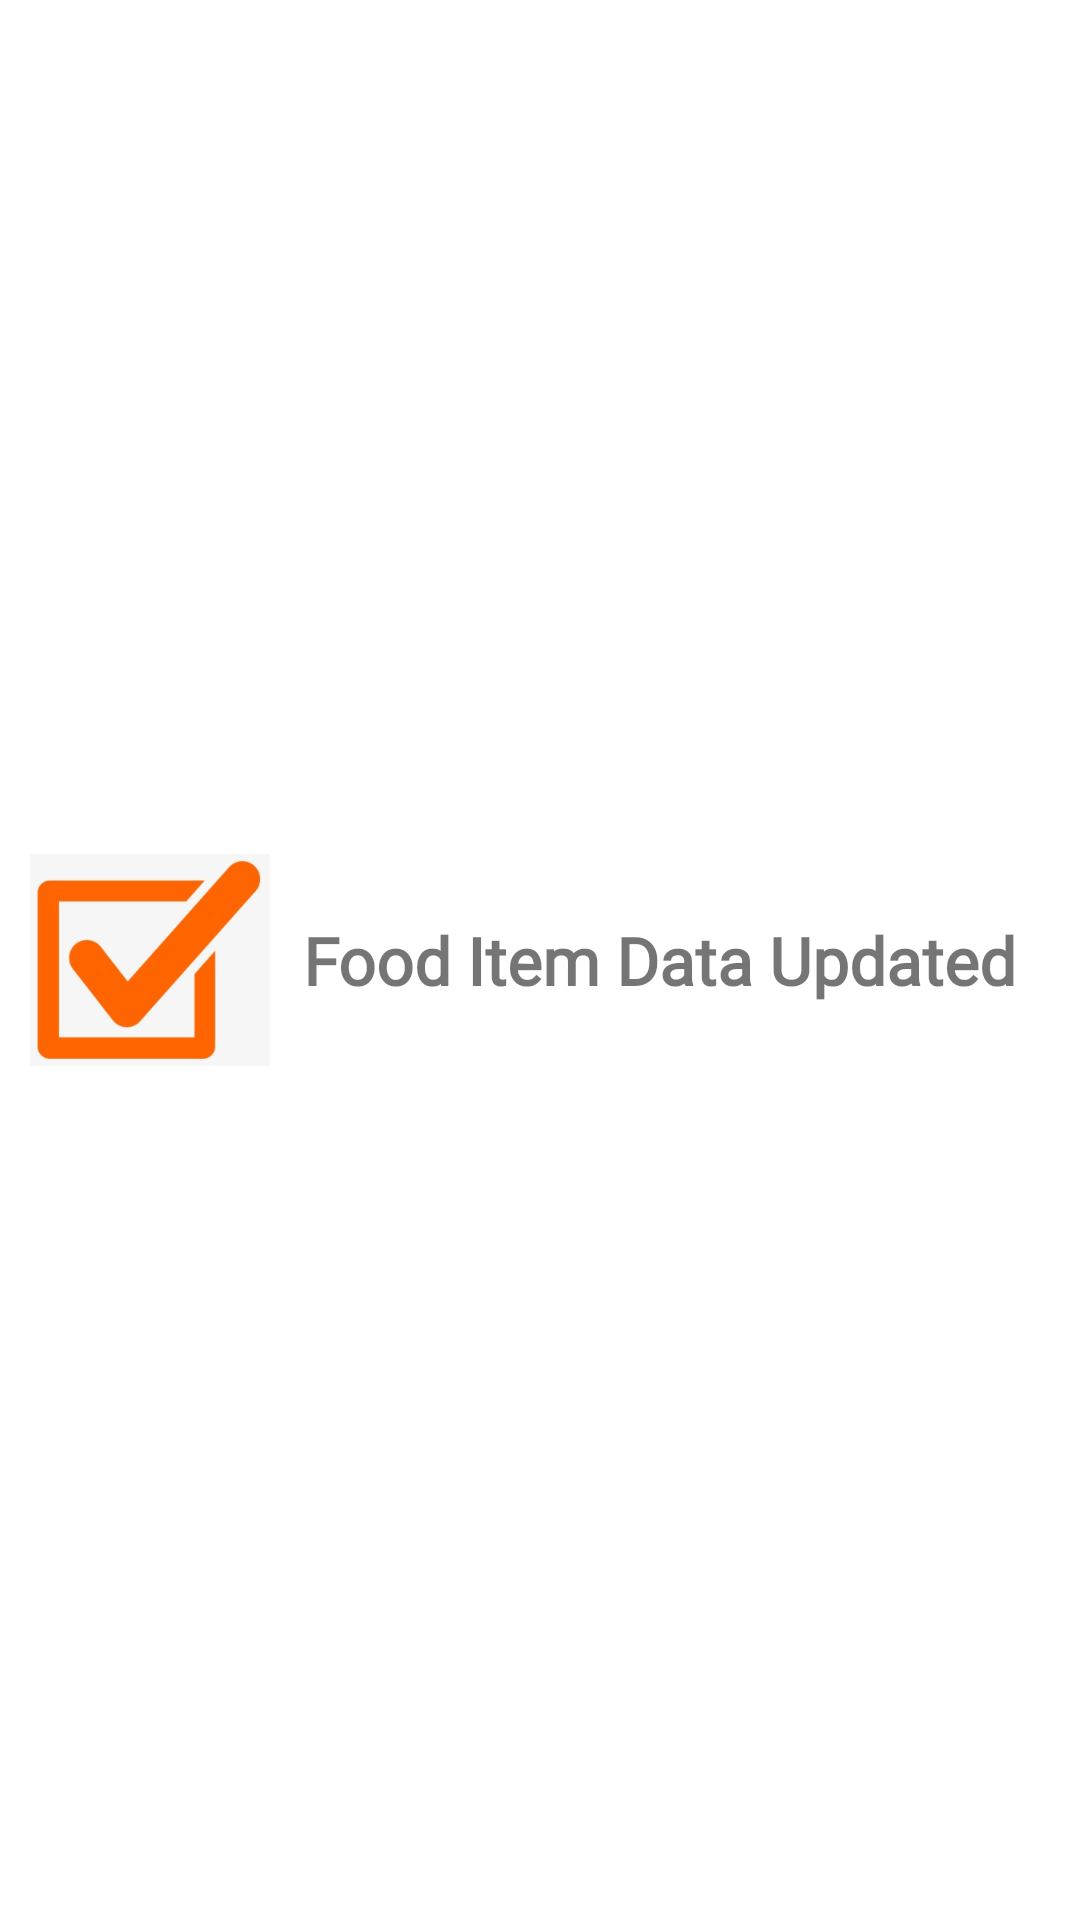

Icon click points for this 1080px x 1920px phone screenshot, format [x,y]:
tick: [149,960]
